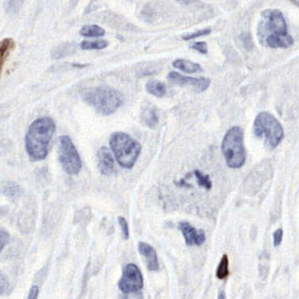Lymphocyte: (216, 254, 231, 279)
